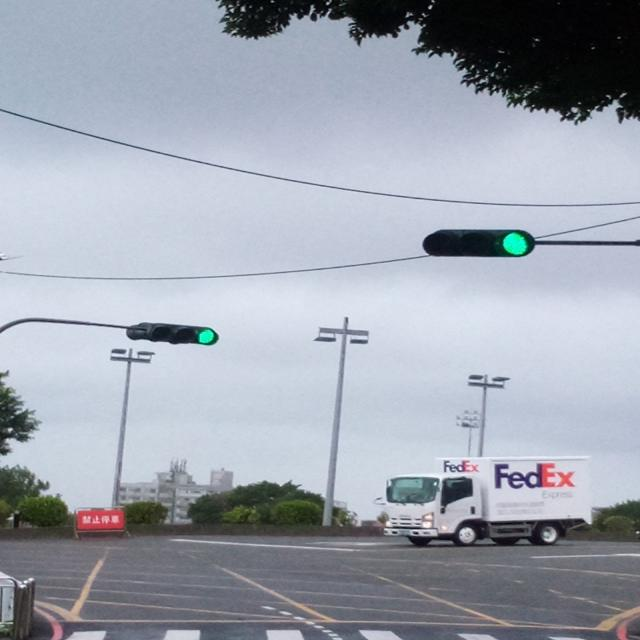green light: (421, 228, 536, 259), (136, 320, 219, 346)
